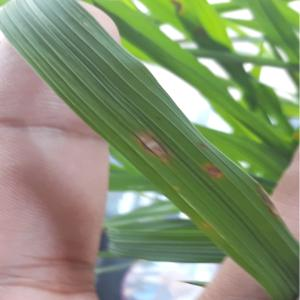1 RiceBlast: (190, 152, 240, 198), (126, 116, 170, 167)
